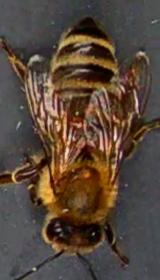varroa_mite: (63, 110, 87, 131)
